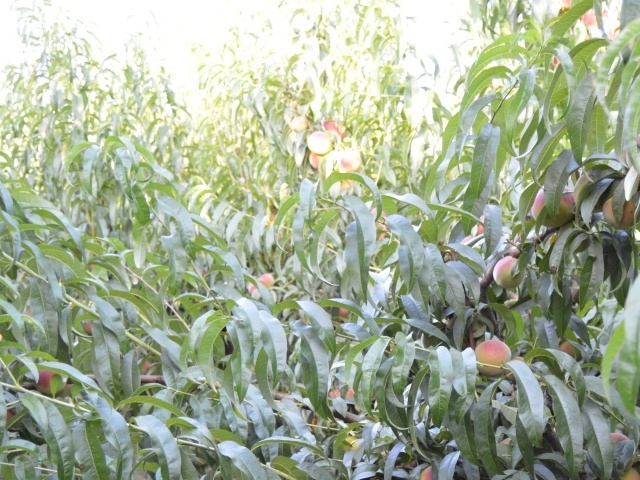peach: (526, 181, 580, 232), (470, 338, 513, 378), (602, 190, 640, 235), (492, 254, 530, 293), (35, 364, 70, 398), (305, 127, 335, 157), (334, 149, 365, 178), (304, 147, 328, 173), (255, 270, 281, 294), (323, 124, 344, 145)
